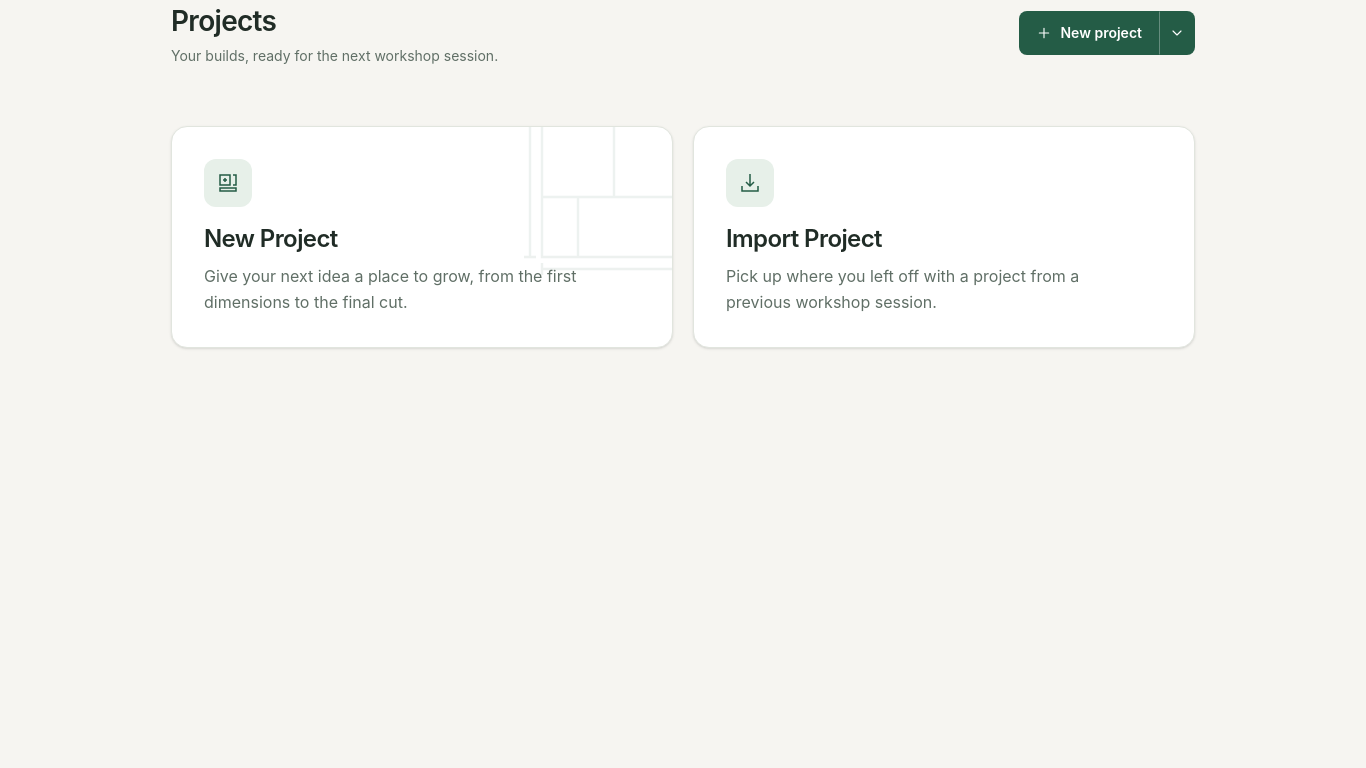
it: Project creation › retains a failed name draft and displays storage failures
Click the 3rd button.
click(228, 183)  # box [171,126,673,348]
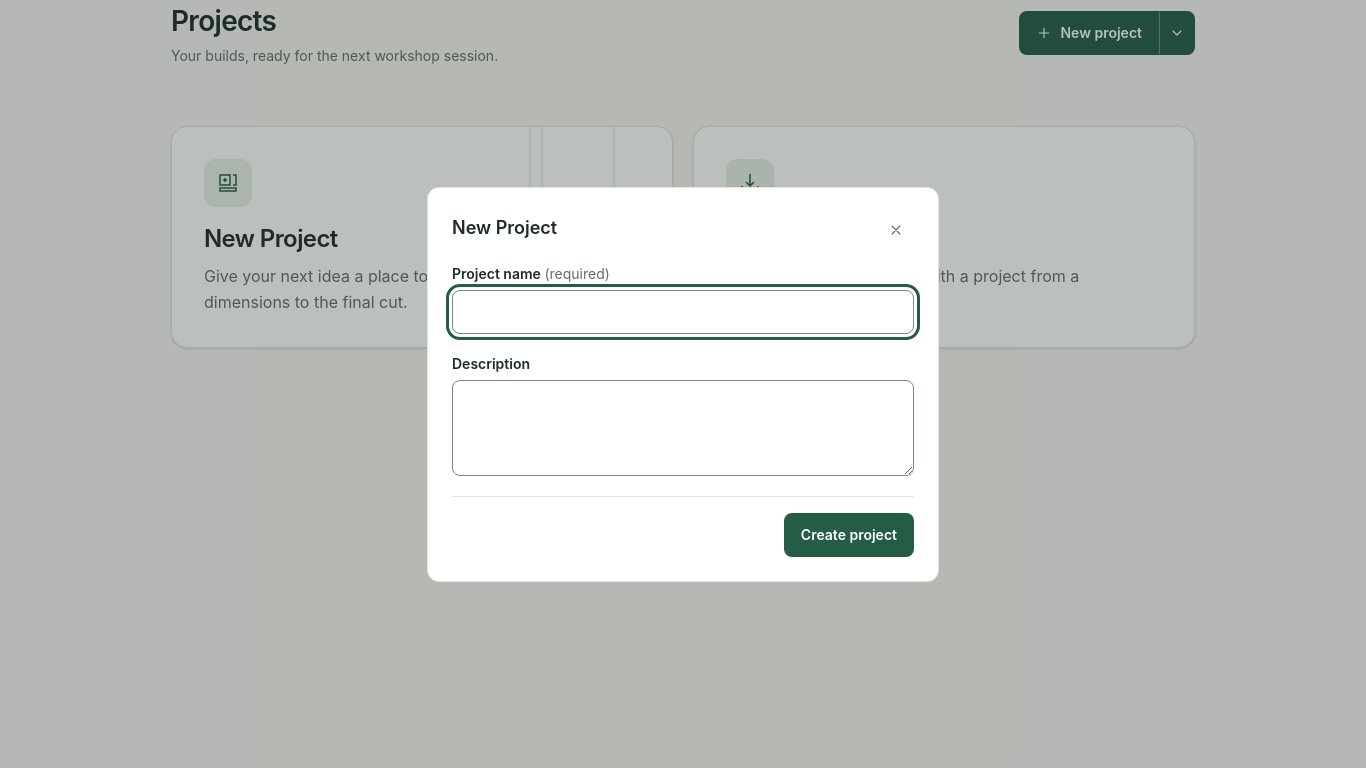
Type "Cabinet" into the field labelled "Project name (required)".
click(683, 312); type("Cabinet")  # box [452,290,914,334]
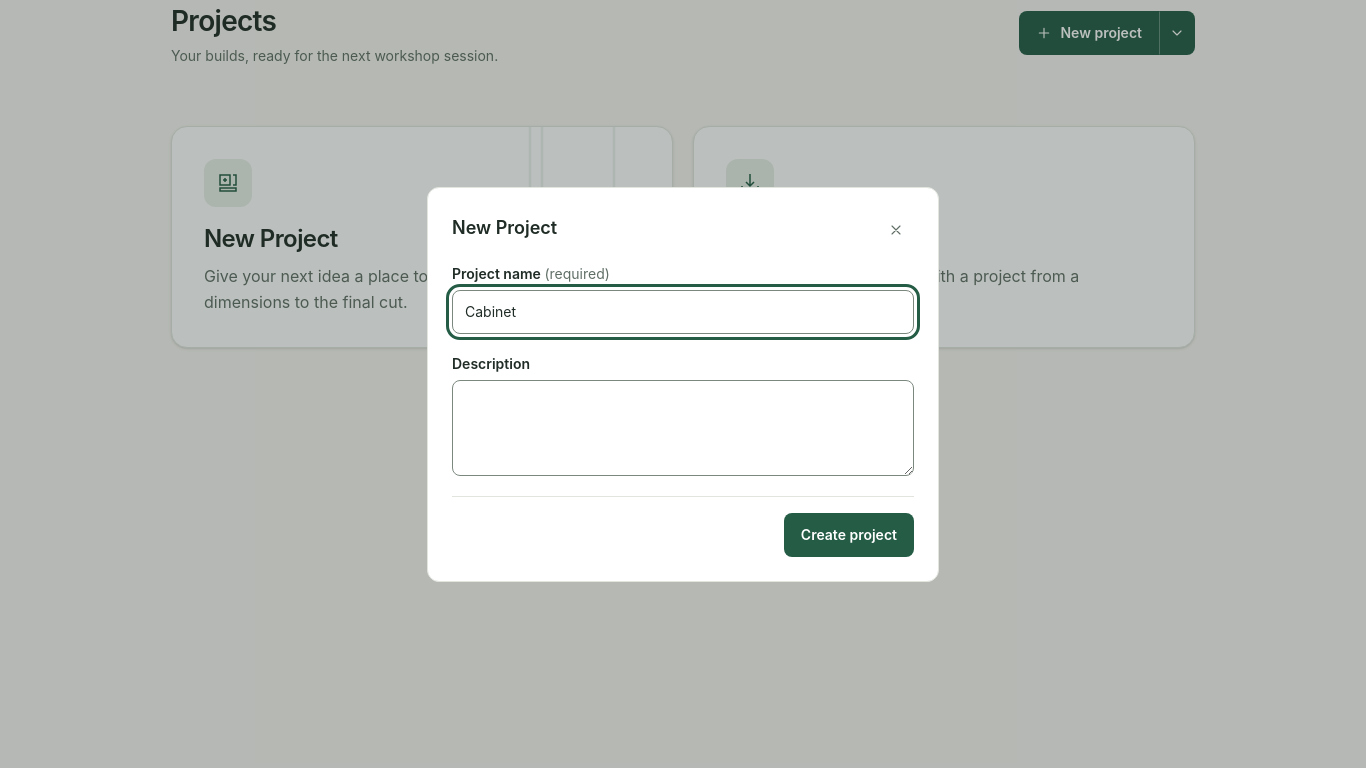
Submit the form, box [452,264,914,556]
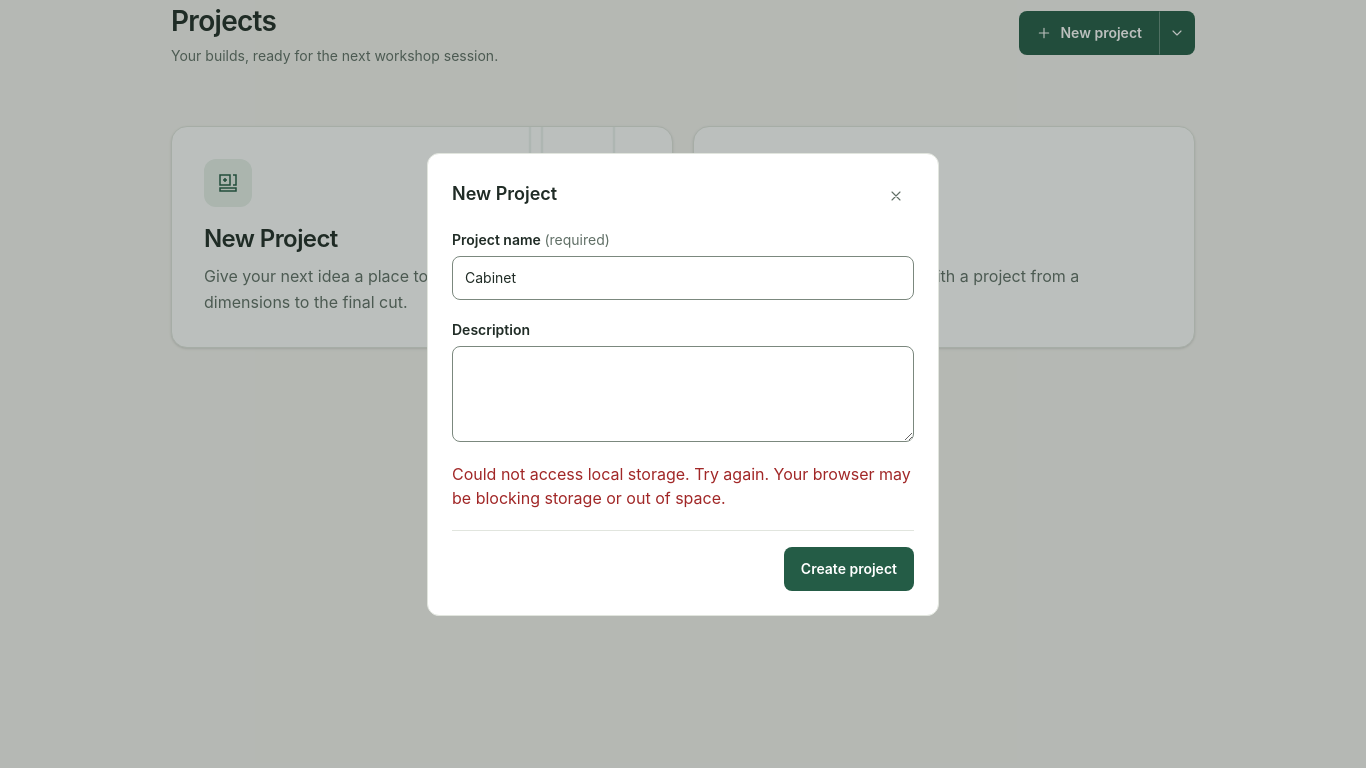
Check: the message shows "Could not access local storage", box [452,464,911,508]
